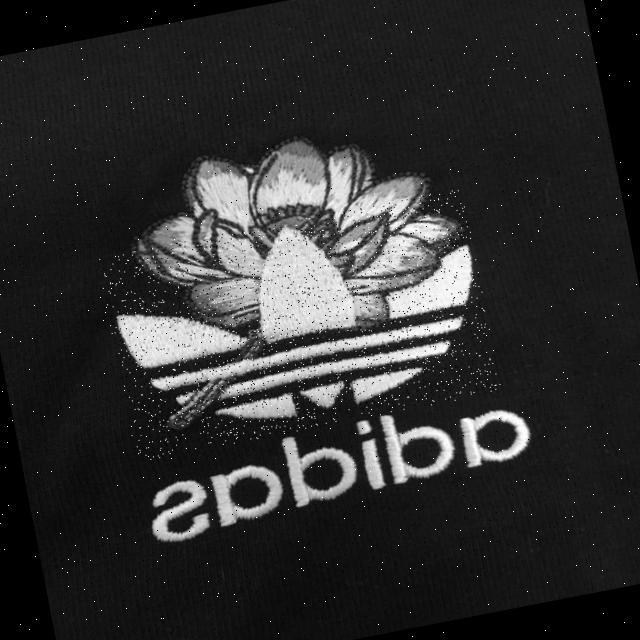Adidas: (97, 188, 502, 463)
